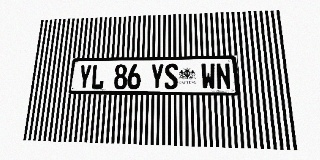6: (127, 64, 141, 89)
8: (113, 64, 128, 89)
L: (90, 64, 105, 89)
N: (215, 63, 231, 90)
S: (164, 64, 178, 89)
W: (201, 63, 216, 90)
Y: (77, 65, 92, 89), (150, 64, 164, 89)
